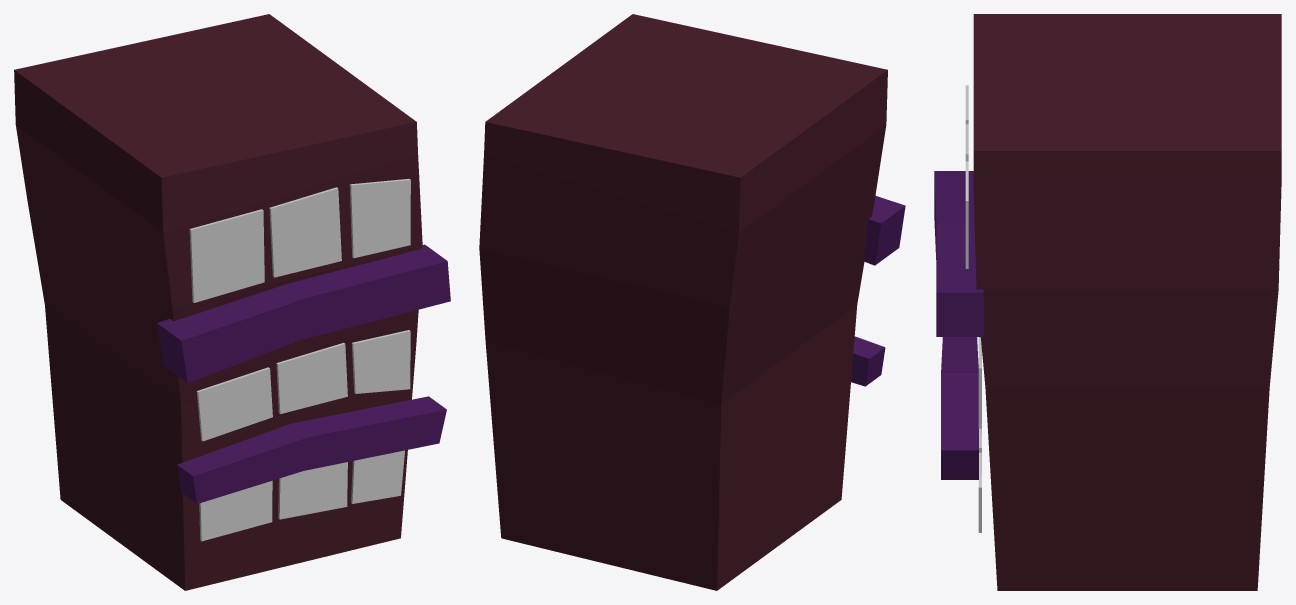
The model's file is prédio1 (1).fbx.
The picture shows the model from 3 angles, left to right: view 1: azimuth 30°, elevation 25°; view 2: azimuth 150°, elevation 25°; view 3: azimuth 270°, elevation 25°; orthographic projection. The views are drawn at different scales.
Parts seen in each view (by area): view 1: Cube.004; view 2: Cube.004; view 3: Cube.004.
Part boxes in pixels (x1,y1,x2,y2): Cube.004: (14, 14, 450, 590); Cube.004: (479, 14, 905, 590); Cube.004: (934, 14, 1281, 590).
Size of the model in its own units: 138 by 209 by 146.
